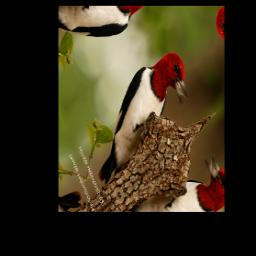Woodpecker: (76, 40, 200, 187)
